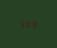eight: (31, 20, 36, 28)
three: (18, 19, 23, 27)
zero: (25, 19, 30, 28)
